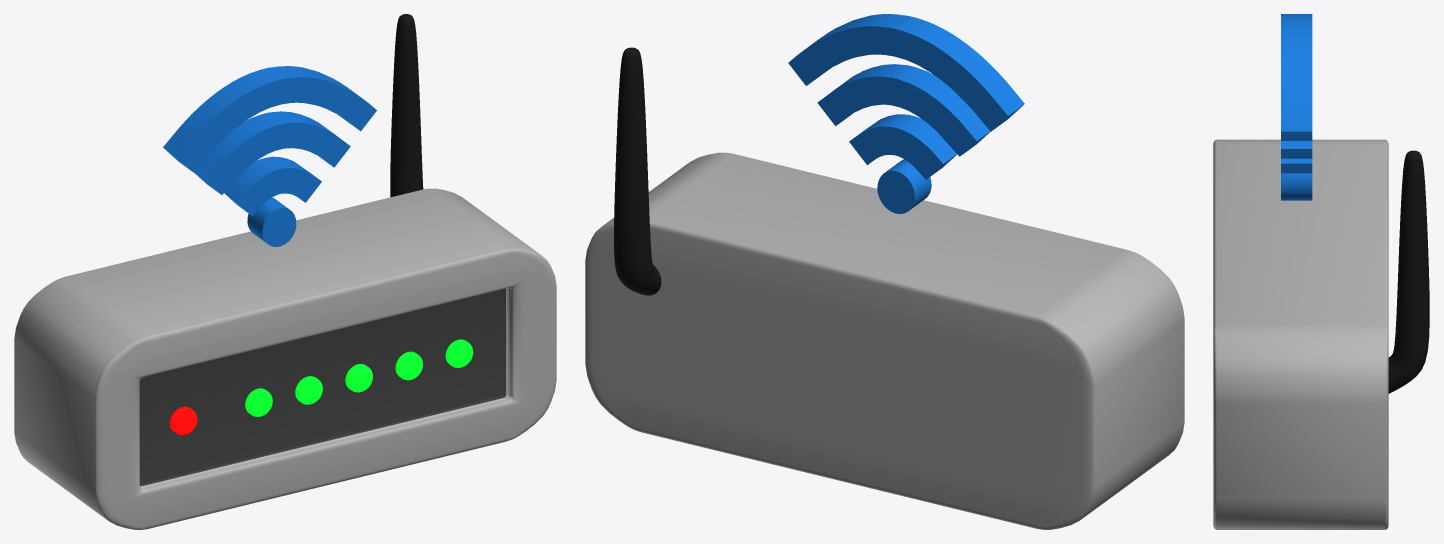
File: Modelo_Router.glb
3 renders of one model, left to right at view 1: azimuth 30°, elevation 25°; view 2: azimuth 150°, elevation 25°; view 3: azimuth 270°, elevation 25°, orthographic. The views are drawn at different scales.
Parts seen in each view (by area): view 1: Cube, Curve.001, Cylinder, Circle, Circle.001; view 2: Cube, Curve.001, Cylinder; view 3: Cube, Cylinder, Curve.001.
Boxes of the visible parts, <box> form: Cube: <box>14,188,556,529</box>; Curve.001: <box>163,66,376,246</box>; Cylinder: <box>390,14,423,197</box>; Circle: <box>245,339,473,416</box>; Circle.001: <box>170,406,197,435</box>; Cube: <box>585,152,1184,529</box>; Curve.001: <box>788,14,1024,213</box>; Cylinder: <box>614,47,661,295</box>; Cube: <box>1213,139,1388,529</box>; Cylinder: <box>1388,150,1429,393</box>; Curve.001: <box>1281,14,1312,200</box>.
Size of the model in its own units: 3 by 2.4 by 1.18.
